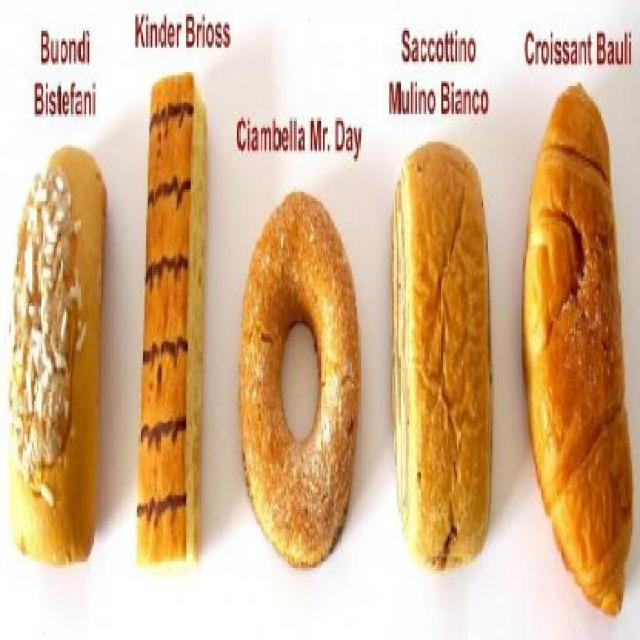Merendine packaged: (522, 86, 634, 629), (238, 188, 362, 576), (387, 142, 495, 578), (5, 148, 109, 568), (135, 74, 211, 576)
